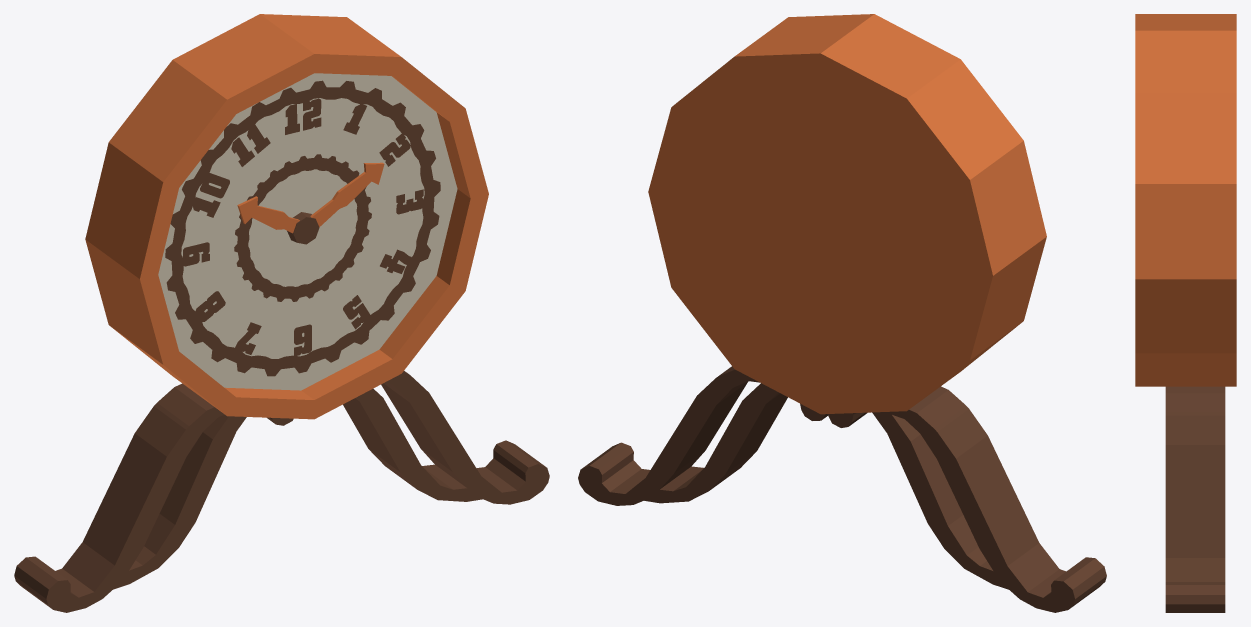
The model's file is clock.fbx.
3 renders of one model, left to right at view 1: azimuth 30°, elevation 25°; view 2: azimuth 150°, elevation 25°; view 3: azimuth 270°, elevation 25°, orthographic. The views are drawn at different scales.
Parts seen in each view (by area): view 1: clock; view 2: clock; view 3: clock.
Part boxes in pixels (bbox=[...]): clock: bbox=[14, 14, 549, 612]; clock: bbox=[578, 14, 1106, 612]; clock: bbox=[1135, 14, 1236, 612].
Size of the model in its own units: 767 by 749 by 144.
